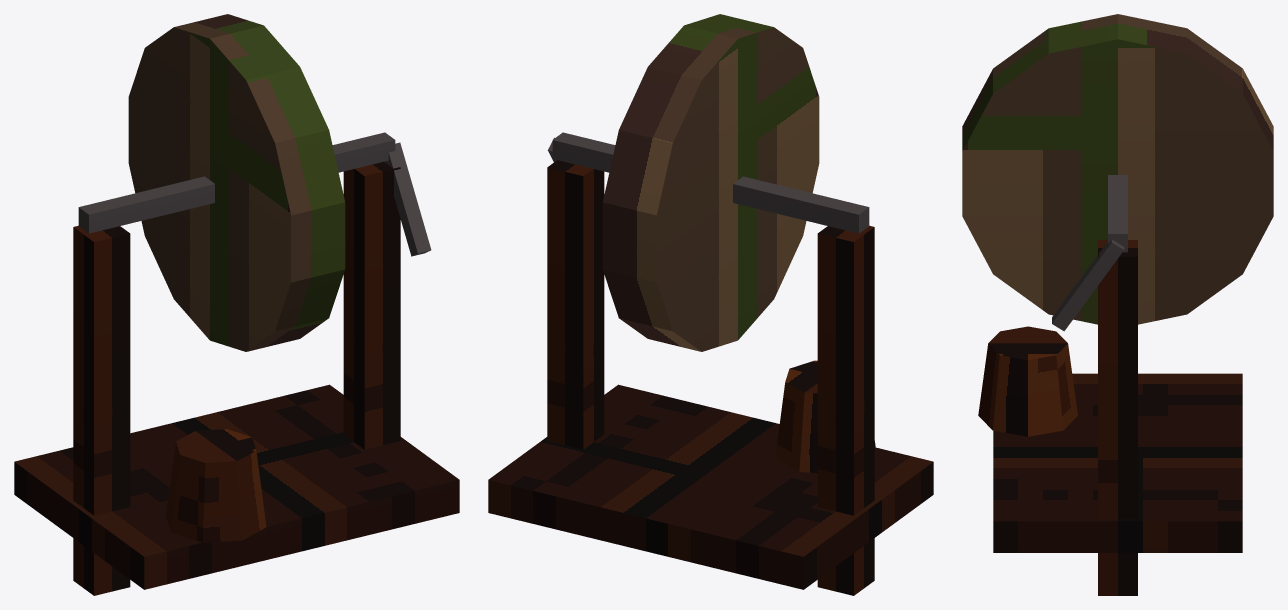
Rendered from grindstone.glb.
The picture shows the model from 3 angles, left to right: view 1: azimuth 30°, elevation 25°; view 2: azimuth 150°, elevation 25°; view 3: azimuth 270°, elevation 25°; orthographic projection. The views are drawn at different scales.
Visible parts, largest first — view 1: grindstone; view 2: grindstone; view 3: grindstone.
Boxes of the visible parts, box(x1,y1,x2,y2) form: grindstone: box(14, 14, 459, 595); grindstone: box(488, 14, 933, 595); grindstone: box(962, 14, 1273, 595).
Size of the model in its own units: 0.705 by 1.1 by 0.624.
Materials: 3 (2 with a texture image).
